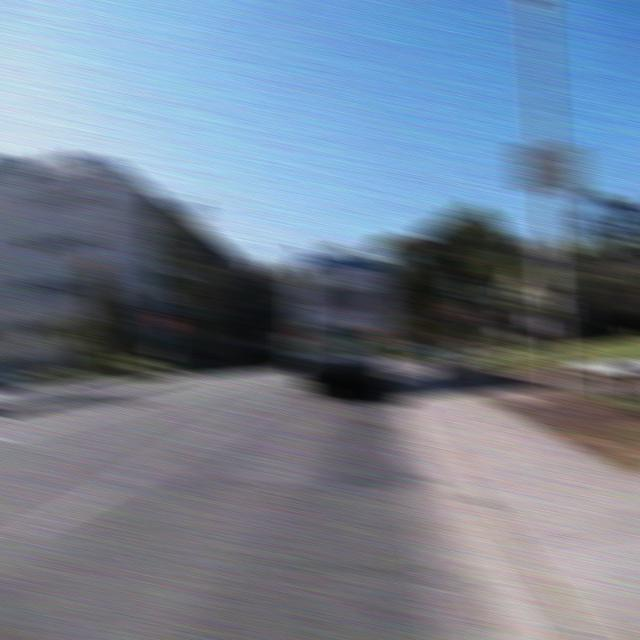stop_sign: (440, 299, 470, 325), (150, 310, 178, 333)
